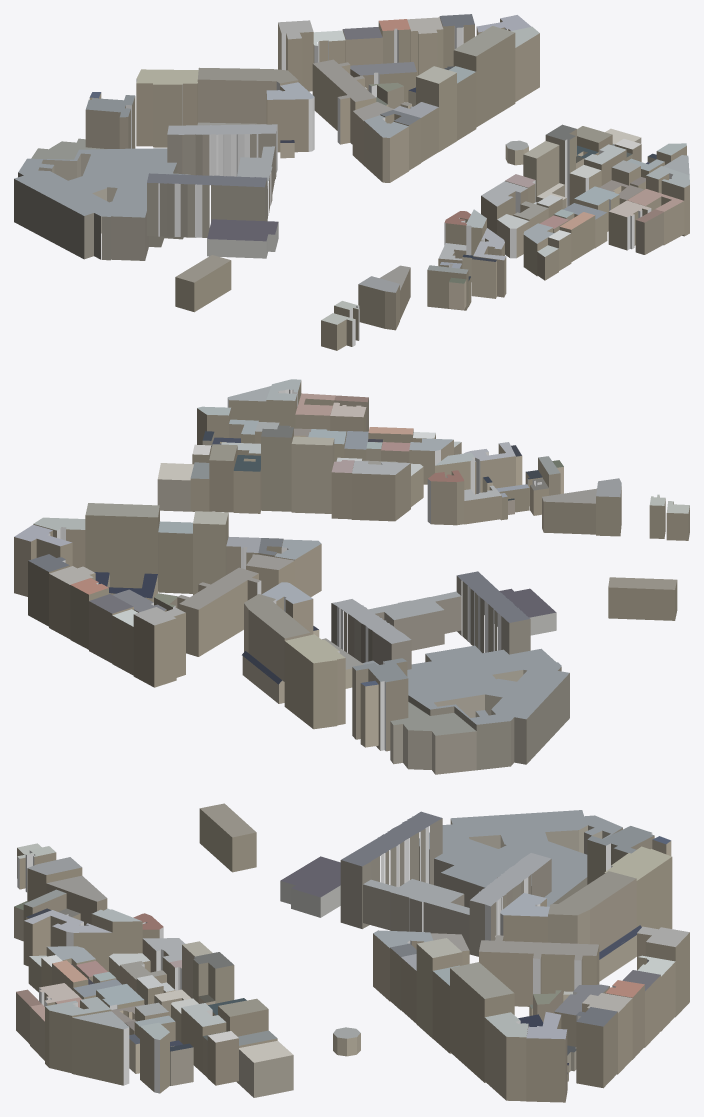
3 renders of one model, top to bottom at view 1: azimuth 30°, elevation 25°; view 2: azimuth 150°, elevation 25°; view 3: azimuth 270°, elevation 25°, orthographic. The views are drawn at different scales.
Visible parts, largest first — view 1: tuile; view 2: tuile; view 3: tuile.
Boxes of the visible parts, <box> form: tuile: <box>14,14,689,350</box>; tuile: <box>14,379,689,774</box>; tuile: <box>14,803,689,1102</box>.
Bounding box in the file's own units: 256 × 52.92 × 256.
